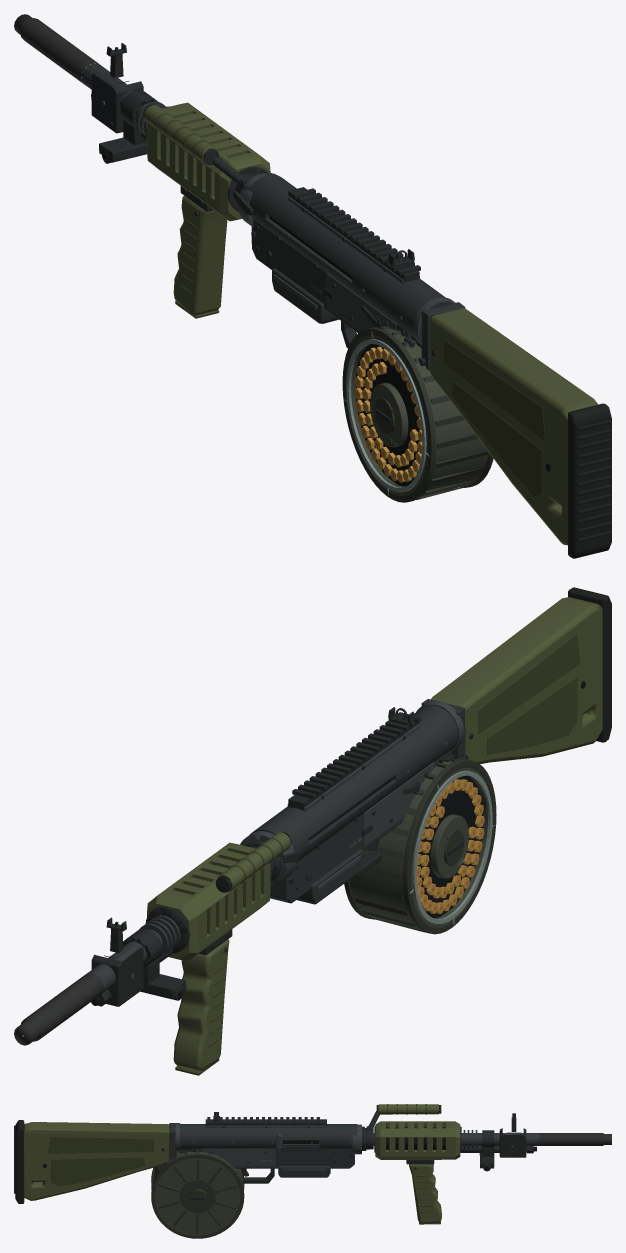
File: weapon-47-DIPGBwEy.glb
3 renders of one model, top to bottom at view 1: azimuth 30°, elevation 25°; view 2: azimuth 150°, elevation 25°; view 3: azimuth 270°, elevation 25°, orthographic. The views are drawn at different scales.
Visible parts, largest first — view 1: salient_weapon_body, salient_weapon_magazine, salient_weapon_iron; view 2: salient_weapon_body, salient_weapon_magazine, salient_weapon_iron; view 3: salient_weapon_body, salient_weapon_magazine.
Part boxes in pixels (x1=…): salient_weapon_body: x1=14, y1=14, x2=611, y2=558; salient_weapon_magazine: x1=342, y1=326, x2=493, y2=502; salient_weapon_iron: x1=106, y1=43, x2=414, y2=267; salient_weapon_body: x1=14, y1=587, x2=611, y2=1075; salient_weapon_magazine: x1=344, y1=750, x2=496, y2=934; salient_weapon_iron: x1=106, y1=707, x2=414, y2=952; salient_weapon_body: x1=14, y1=1104, x2=611, y2=1224; salient_weapon_magazine: x1=151, y1=1150, x2=244, y2=1238.
Bounding box in the file's own units: 0.0854 × 0.2137 × 0.986.
